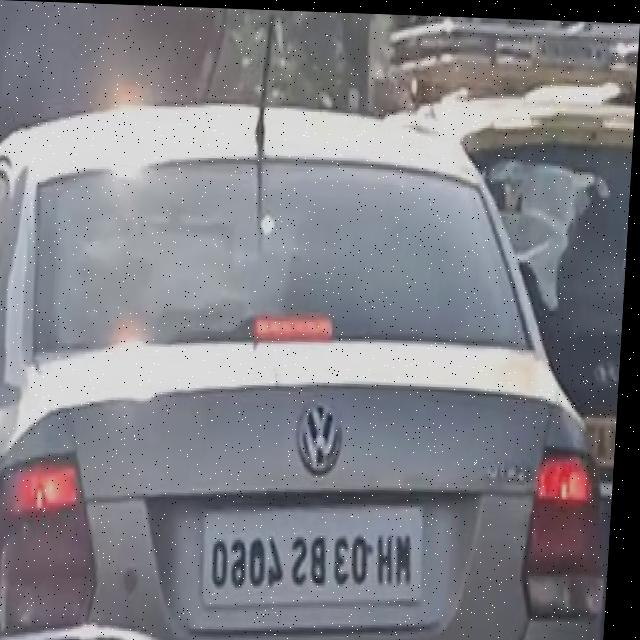plate: (204, 489, 436, 627)
